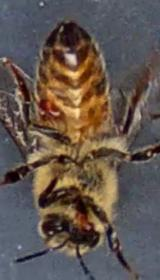varroa_mite: (34, 90, 67, 126)
